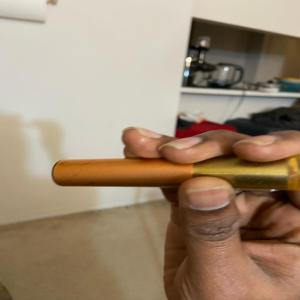Golden-E-Ciggirate: (46, 147, 300, 195)
